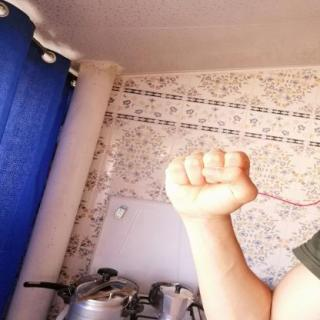SAD: (146, 140, 270, 227)
